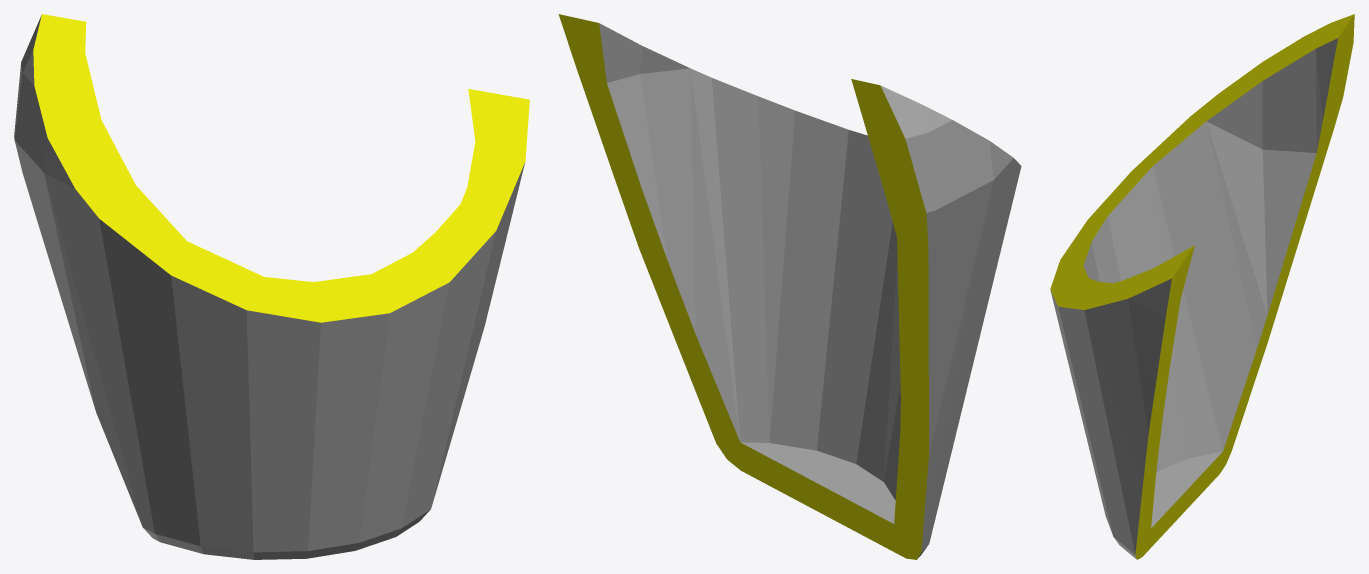
Rendered from SM_brokenVase_Part1.fbx.
The picture shows the model from 3 angles, left to right: view 1: azimuth 30°, elevation 25°; view 2: azimuth 150°, elevation 25°; view 3: azimuth 270°, elevation 25°; orthographic projection. The views are drawn at different scales.
Parts seen in each view (by area): view 1: SM_brokenVase_part1; view 2: SM_brokenVase_part1; view 3: SM_brokenVase_part1.
Boxes of the visible parts, <box> form: SM_brokenVase_part1: <box>14,14,529,559</box>; SM_brokenVase_part1: <box>558,14,1021,559</box>; SM_brokenVase_part1: <box>1050,14,1354,559</box>.
Bounding box in the file's own units: 66.45 × 70.89 × 44.75.
